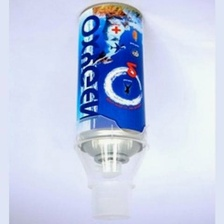aerosol_cans: (72, 0, 149, 181)
